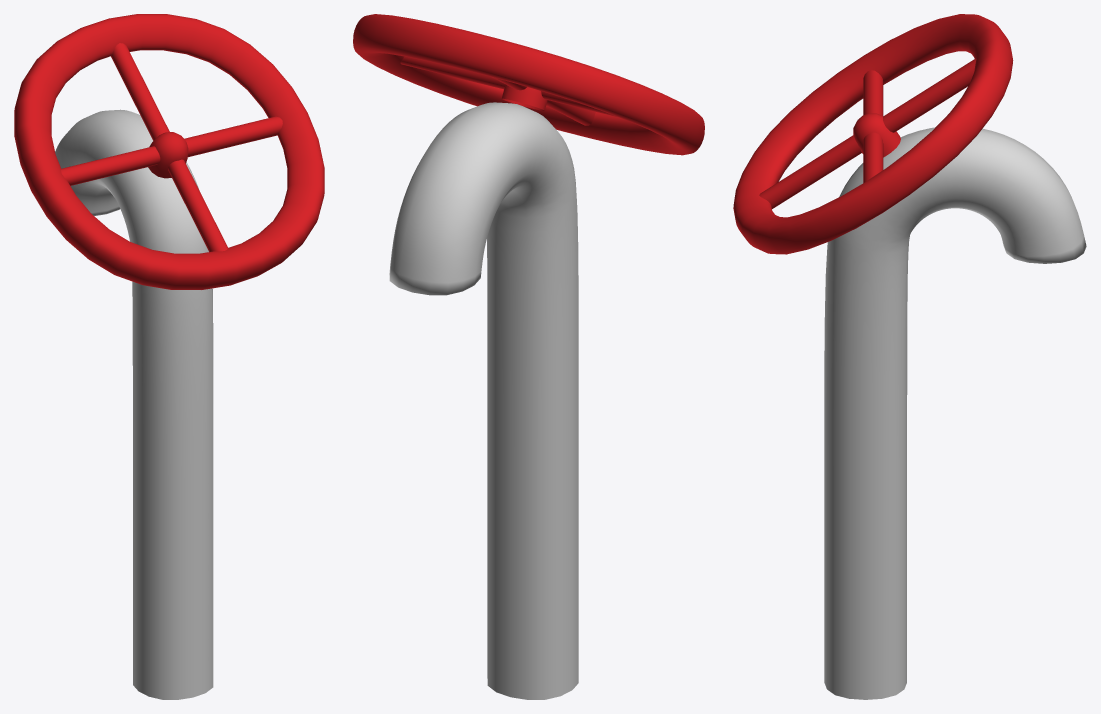
Rendered from WaterPipe.fbx.
The picture shows the model from 3 angles, left to right: view 1: azimuth 30°, elevation 25°; view 2: azimuth 150°, elevation 25°; view 3: azimuth 270°, elevation 25°; orthographic projection. The views are drawn at different scales.
Parts seen in each view (by area): view 1: Cube.002; view 2: Cube.002; view 3: Cube.002.
Part boxes in pixels (left/top/right/bottom): Cube.002: left=14, top=14, right=324, bottom=699; Cube.002: left=353, top=14, right=704, bottom=699; Cube.002: left=733, top=14, right=1086, bottom=699.
Size of the model in its own units: 24.06 by 51.77 by 25.83.
